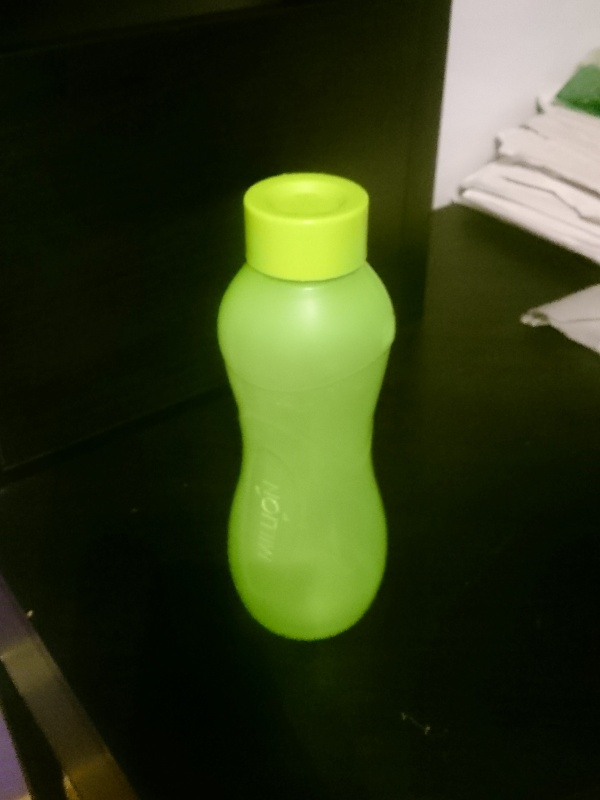my bottle: (212, 172, 397, 640)
